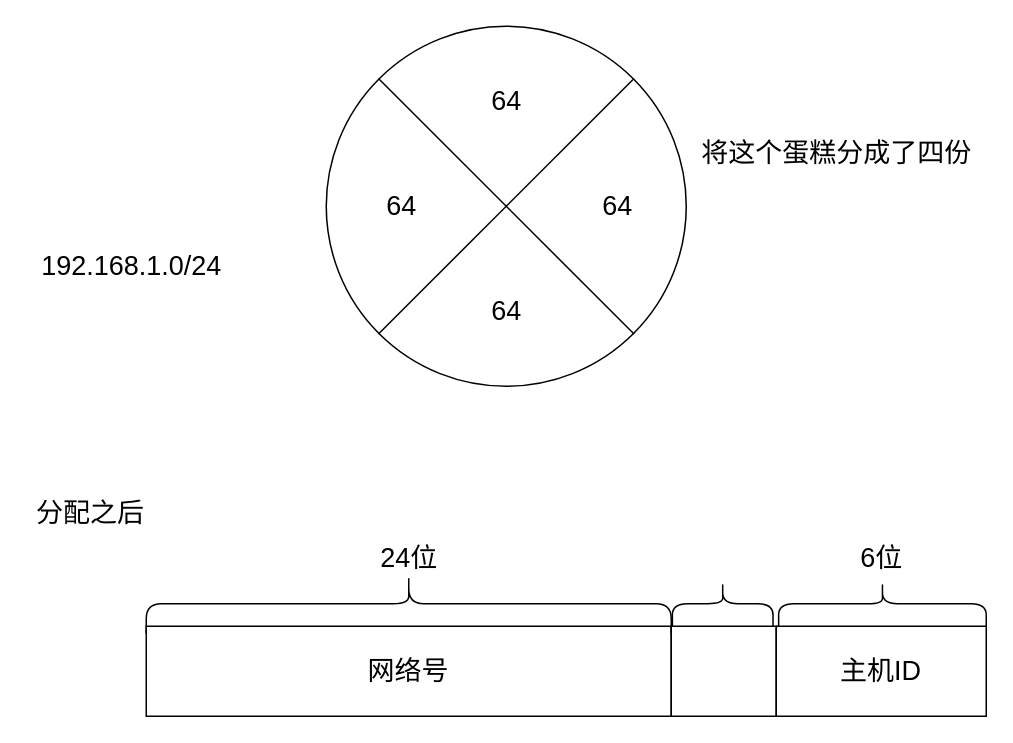
The diagram is 1013 pixels wide and 743 high, and some of its shapes have lost their labels. Each missing label, with the box of its shape:
2位: (671, 580, 773, 626)
子网ID: (670, 625, 776, 716)
